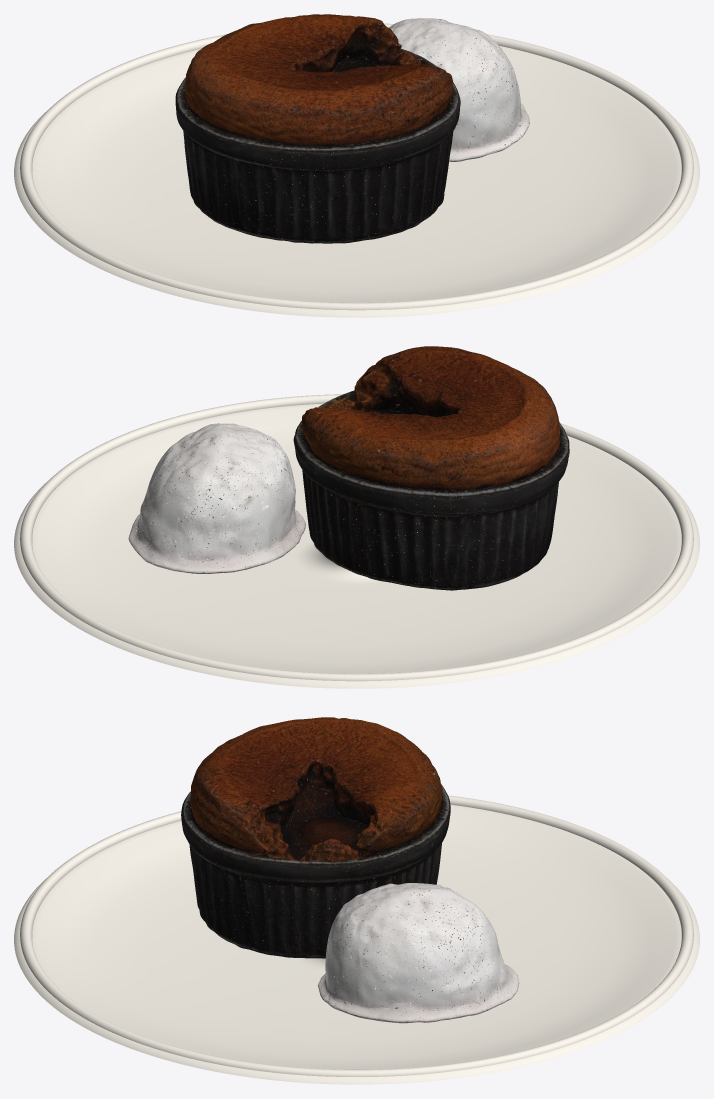
Rendered from souffle-chocolat-meshy.glb.
The picture shows the model from 3 angles, top to bottom: view 1: azimuth 30°, elevation 25°; view 2: azimuth 150°, elevation 25°; view 3: azimuth 270°, elevation 25°; orthographic projection.
Visible parts, largest first — view 1: Assiette céramique réaliste, geometry_0, Rebord assiette réaliste; view 2: Assiette céramique réaliste, geometry_0, Rebord assiette réaliste; view 3: Assiette céramique réaliste, geometry_0, Rebord assiette réaliste.
Boxes of the visible parts, bbox=[...] form: Assiette céramique réaliste: bbox=[14, 46, 699, 317]; geometry_0: bbox=[175, 14, 529, 243]; Rebord assiette réaliste: bbox=[20, 23, 693, 310]; Assiette céramique réaliste: bbox=[14, 403, 699, 688]; geometry_0: bbox=[128, 346, 569, 590]; Rebord assiette réaliste: bbox=[20, 394, 693, 681]; Assiette céramique réaliste: bbox=[14, 804, 699, 1084]; geometry_0: bbox=[181, 717, 519, 1023]; Rebord assiette réaliste: bbox=[20, 795, 693, 1076].
Size of the model in its own units: 1.71 by 0.4538 by 1.71.
Materials: 2 (1 with a texture image).
